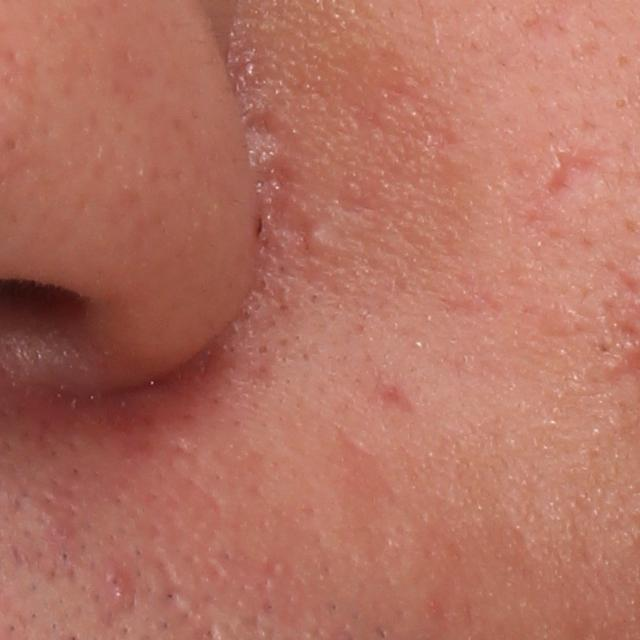atrophic_scar: (538, 141, 610, 201), (248, 108, 297, 157), (371, 371, 416, 417)
comedo: (300, 225, 330, 253), (612, 94, 629, 111)
papule: (105, 564, 131, 603)
